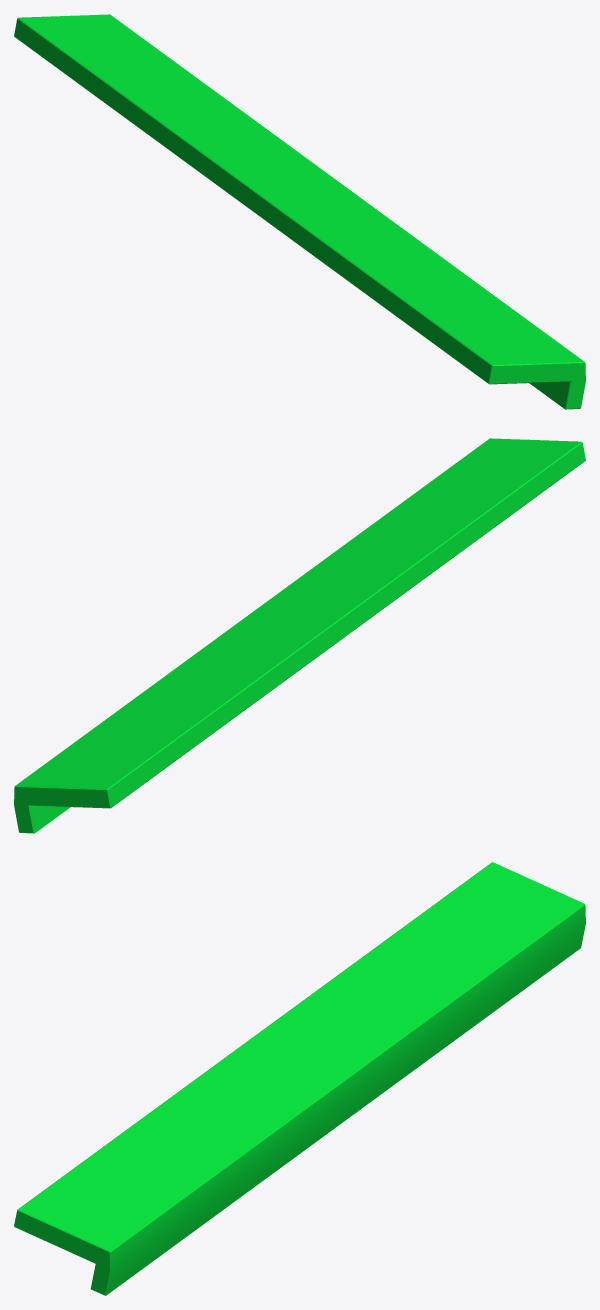
File: Edge_Metal_Front.fbx
The picture shows the model from 3 angles, top to bottom: view 1: azimuth 30°, elevation 25°; view 2: azimuth 150°, elevation 25°; view 3: azimuth 330°, elevation 25°; orthographic projection.
Visible parts, largest first — view 1: Edge_Metal_Front; view 2: Edge_Metal_Front; view 3: Edge_Metal_Front.
Boxes of the visible parts, <box> form: Edge_Metal_Front: <box>14,14,585,409</box>; Edge_Metal_Front: <box>14,438,585,833</box>; Edge_Metal_Front: <box>14,862,585,1295</box>.
Bounding box in the file's own units: 6.72 × 4.3 × 56.82.
